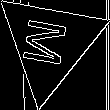M_E: (22, 16, 77, 71)
